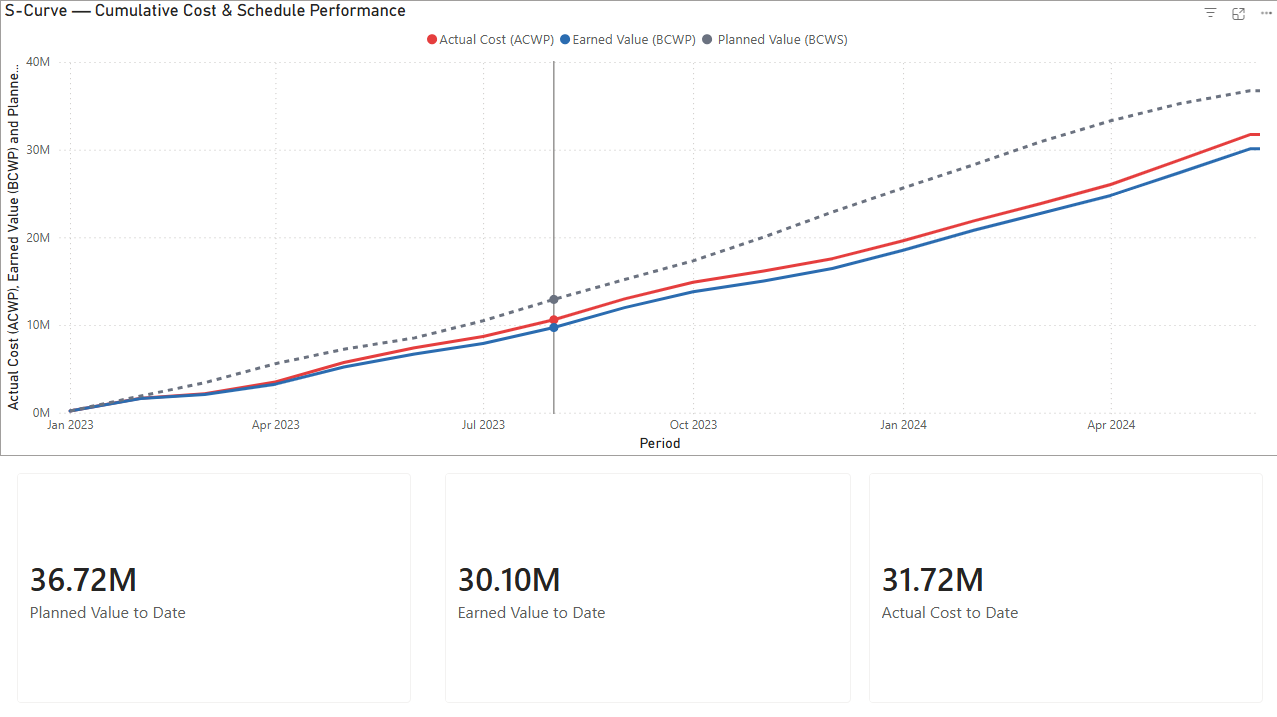

Layout of this report page (visuals, bound fields, positions):
{"tool":"powerbi","page":{"name":"S-Curve","canvas":[1280,720],"ordinal":2},"visuals":[{"type":"lineChart","title":"S-Curve — Cumulative Cost & Schedule Performance","fields":{"Y":["Measures_log.Cumulative_ACWP","Measures_log.Cumulative_BCWP","Measures_log.Cumulative_BCWS"],"Category":["evm_monthly.Period"]},"box":[0,0,1280,456],"z":0},{"type":"cardVisual","fields":{"Data":["Measures_log.Cumulative_ACWP"]},"box":[852,456,428,264],"z":1000},{"type":"cardVisual","fields":{"Data":["Measures_log.Cumulative_BCWS"]},"box":[0,456,428,264],"z":2000},{"type":"cardVisual","fields":{"Data":["Measures_log.Cumulative_BCWP"]},"box":[428,456,440,264],"z":3000}]}

Visuals, with their boxes in screenshot pixels (x1, y1, x2, y2), scaled from the page's 1280x720 canvas onto the 1277x717 screenshot:
"S-Curve — Cumulative Cost & Schedule Performance" lineChart: region(0, 0, 1276, 454)
cardVisual - Measures_log.Cumulative_ACWP: region(850, 454, 1276, 716)
cardVisual - Measures_log.Cumulative_BCWS: region(0, 454, 427, 716)
cardVisual - Measures_log.Cumulative_BCWP: region(427, 454, 866, 716)
